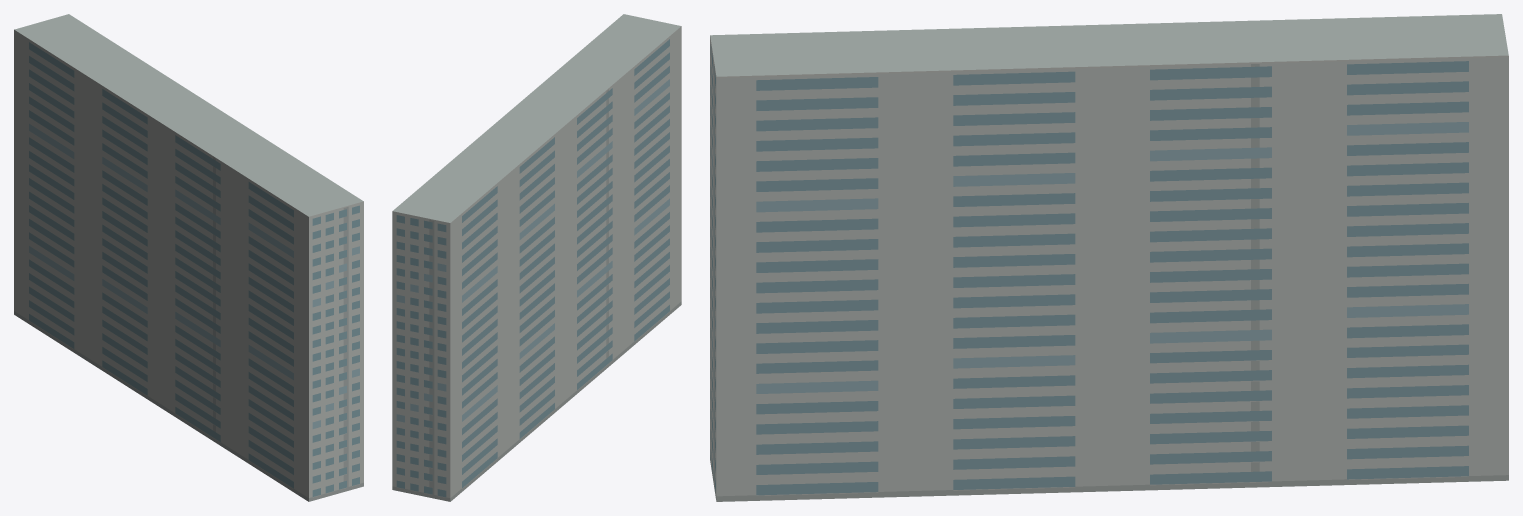
The model's file is residential-0ff3c8e5-46f7-4f4c-a16b-cec9fcd0a26d.glb.
3 views of the same model, side by side, from view 1: azimuth 30°, elevation 25°; view 2: azimuth 150°, elevation 25°; view 3: azimuth 270°, elevation 25° (orthographic). The views are drawn at different scales.
Parts seen in each view (by area): view 1: residential-0ff3c8e5-46f7-4f4c-a16b-cec9fcd0a26d.tmp; view 2: residential-0ff3c8e5-46f7-4f4c-a16b-cec9fcd0a26d.tmp; view 3: residential-0ff3c8e5-46f7-4f4c-a16b-cec9fcd0a26d.tmp.
Boxes of the visible parts, <box> form: residential-0ff3c8e5-46f7-4f4c-a16b-cec9fcd0a26d.tmp: <box>14,14,363,501</box>; residential-0ff3c8e5-46f7-4f4c-a16b-cec9fcd0a26d.tmp: <box>392,14,681,501</box>; residential-0ff3c8e5-46f7-4f4c-a16b-cec9fcd0a26d.tmp: <box>710,14,1508,501</box>.
Bounding box in the file's own units: 20.29 × 64.05 × 109.
